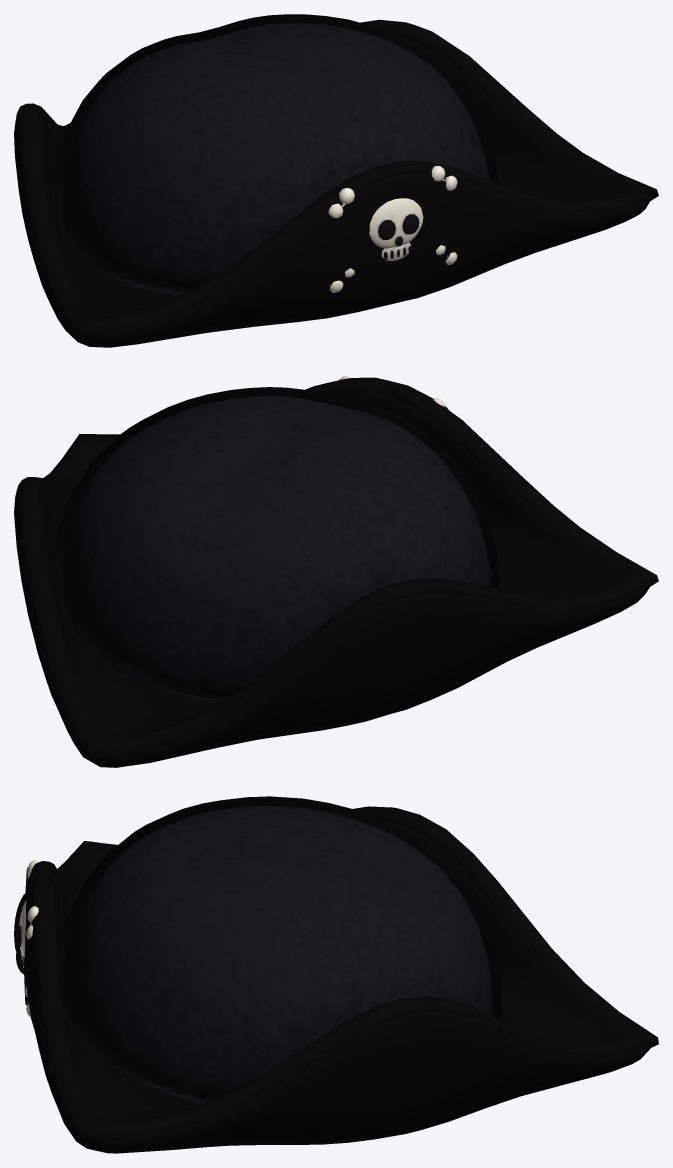
The model's file is hat_tricorn_female_hi.glb.
3 renders of one model, top to bottom at view 1: azimuth 30°, elevation 25°; view 2: azimuth 150°, elevation 25°; view 3: azimuth 270°, elevation 25°, orthographic. The views are drawn at different scales.
Parts seen in each view (by area): view 1: hat_tricorn_hi_v5_female; view 2: hat_tricorn_hi_v5_female; view 3: hat_tricorn_hi_v5_female.
Boxes of the visible parts, x1,y1,x2,y2 form: hat_tricorn_hi_v5_female: (14,14,658,347); hat_tricorn_hi_v5_female: (14,376,658,767); hat_tricorn_hi_v5_female: (14,796,658,1153).
Bounding box in the file's own units: 0.8675 × 0.3189 × 0.8037.
1 material, 1 textured.
